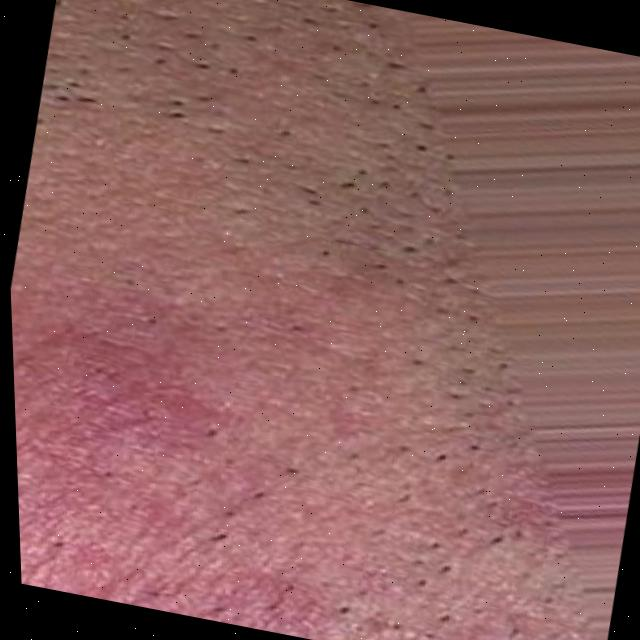Rosacea: (10, 276, 425, 640)
